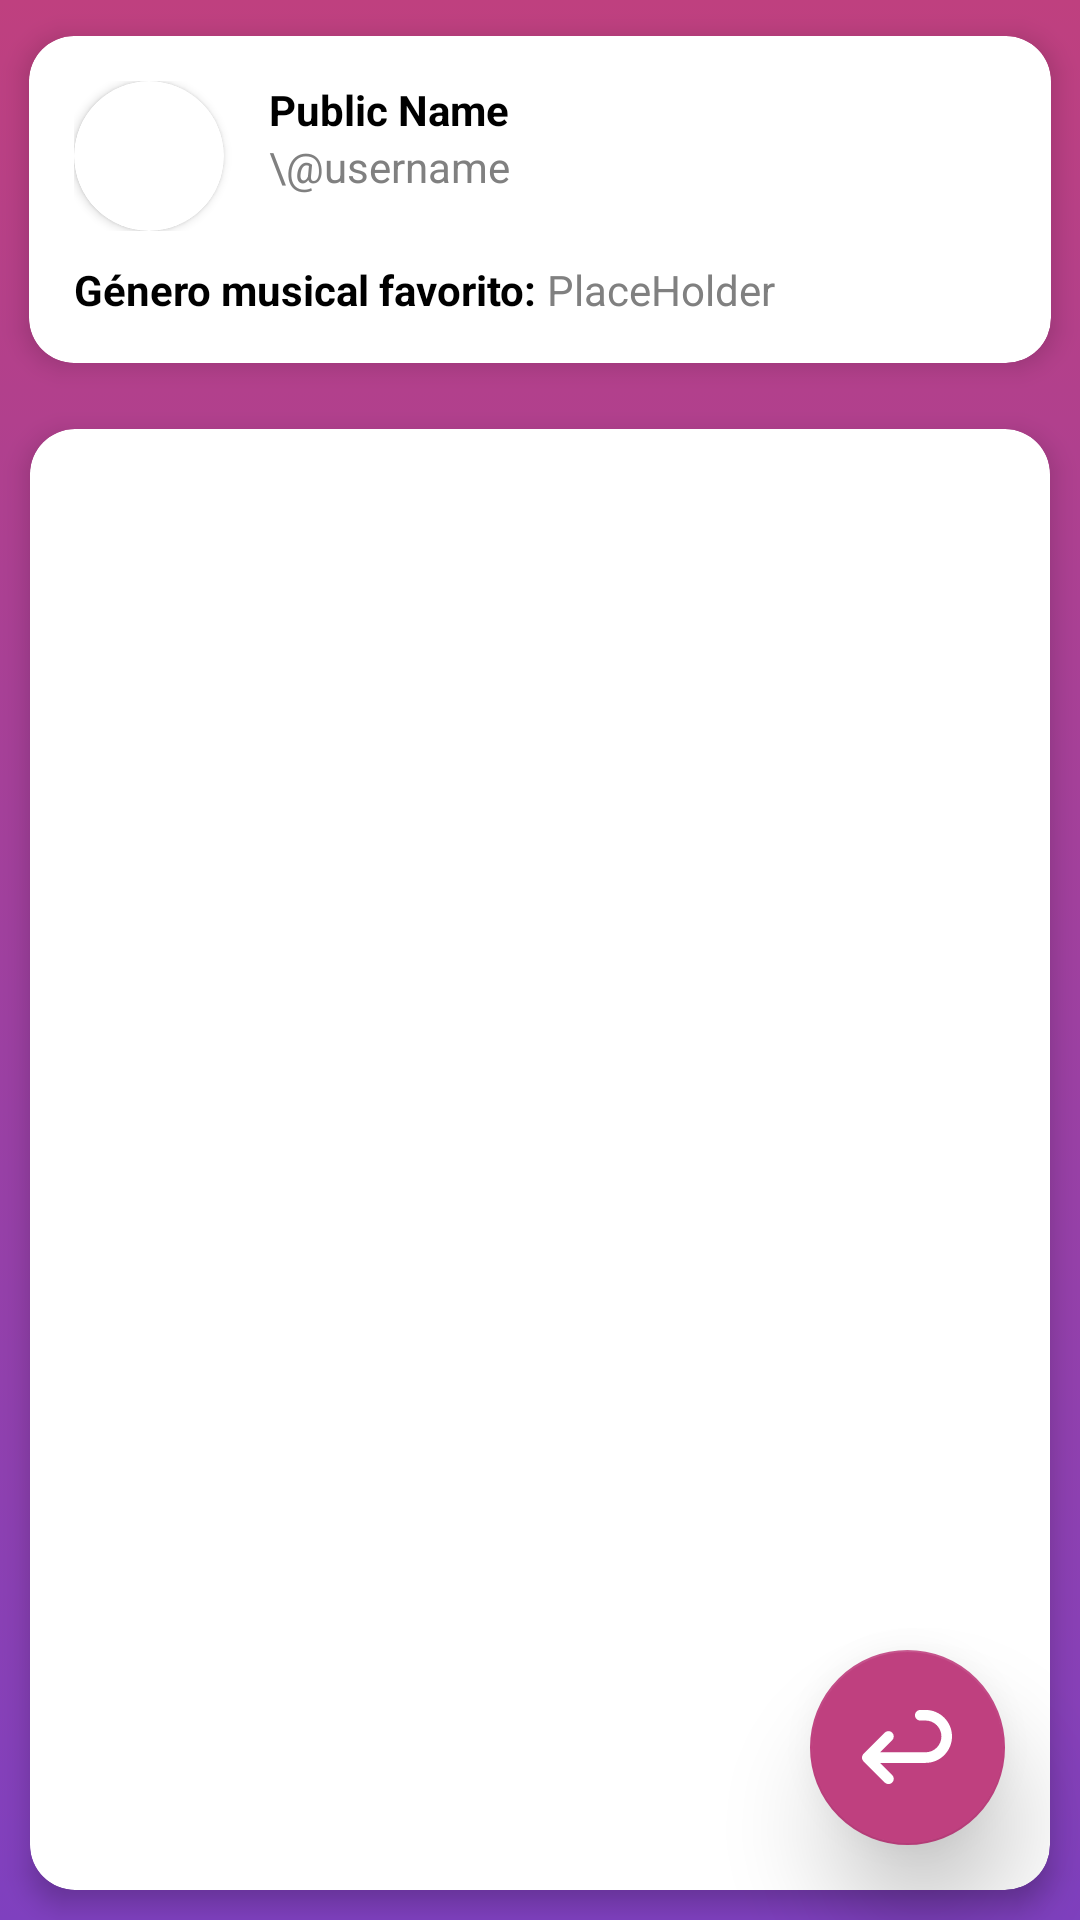

Point at icon controls on the screen. Image size 1080x1920, points as (x,y).
Botón para ir hacia el anterior fragmento: (907,1747)
